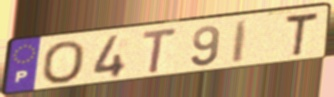4: (91, 33, 129, 80)
9: (189, 25, 222, 68)
I: (230, 18, 252, 65)
O: (39, 39, 87, 86)
T: (140, 26, 180, 76), (283, 11, 321, 59)
